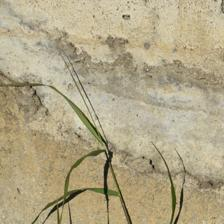Crack: (1, 36, 222, 155)
